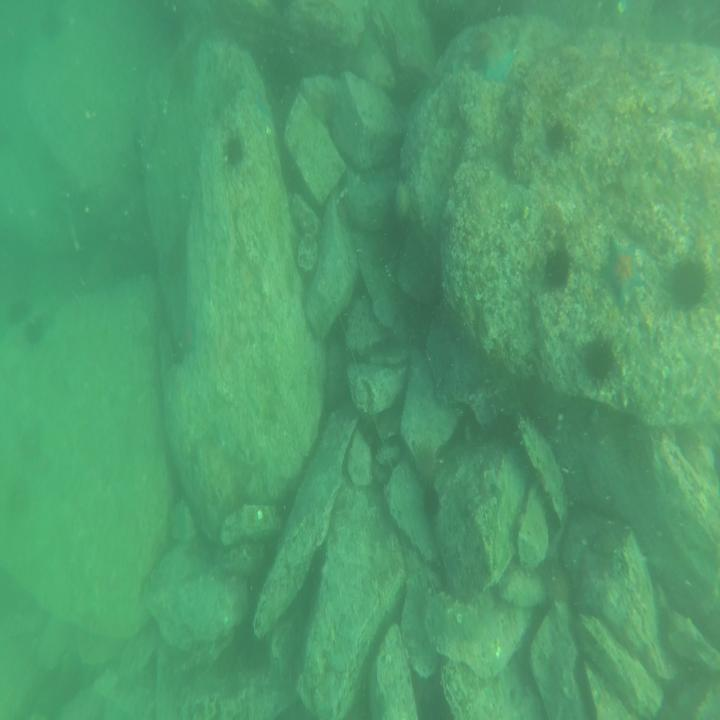echinus: (670, 245, 707, 315), (542, 242, 574, 294), (582, 336, 620, 379), (412, 439, 442, 487), (392, 171, 415, 224), (224, 132, 244, 168), (24, 315, 46, 345), (548, 122, 567, 156)
starfish: (603, 227, 646, 311), (478, 26, 519, 80)
